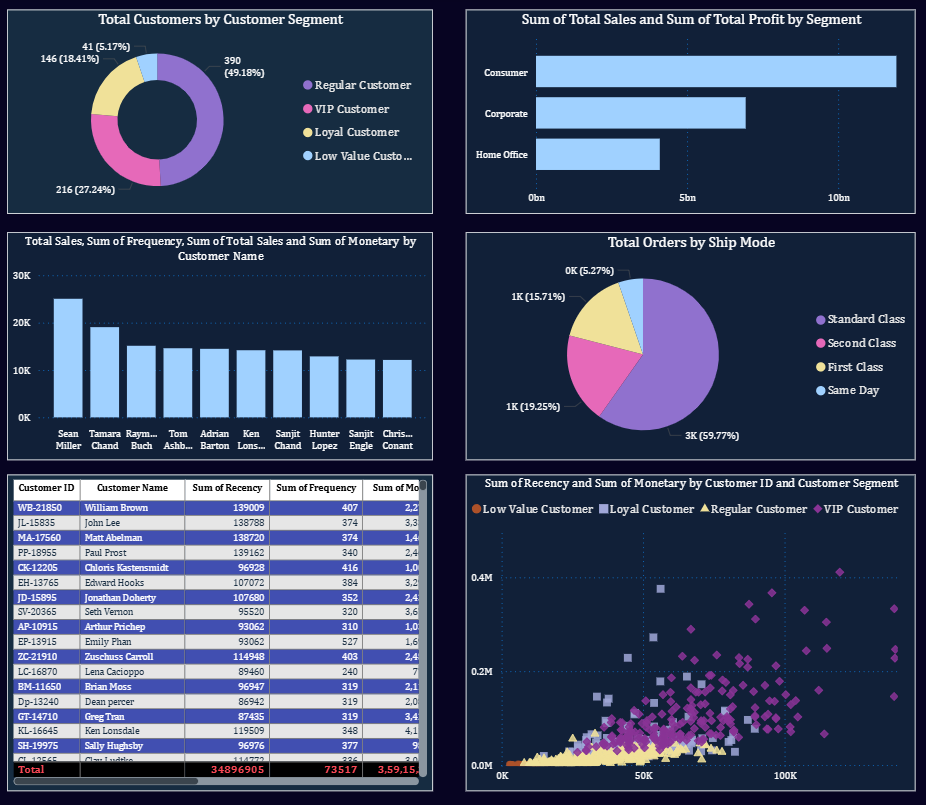

The dashboard page shown, as its layout file describes it:
{"tool":"powerbi","page":{"name":"Page 2","canvas":[1000,870],"ordinal":1},"visuals":[{"type":"donutChart","fields":{"Category":["Superstore.Customer Segment"],"Y":["#Measures.Total Customers"]},"box":[10.2,14,458.2,219.8],"z":0},{"type":"columnChart","fields":{"Category":["Superstore.Customer Name"],"Y":["#Measures.Total Sales"]},"box":[10.2,253.3,458.2,245.9],"z":1000},{"type":"clusteredBarChart","fields":{"Category":["Superstore.Segment"],"Y":["Superstore.Total Sales"]},"box":[504.7,14,484.3,219.8],"z":2000},{"type":"pieChart","fields":{"Category":["Superstore.Ship Mode"],"Y":["#Measures.Total Orders"]},"box":[504.7,253.3,484.3,245.9],"z":3000},{"type":"scatterChart","fields":{"X":["Superstore.Recency"],"Y":["Superstore.Monetary"],"Category":["Superstore.Customer ID"],"Series":["Superstore.Customer Segment"]},"box":[504.7,514.1,484.3,340.8],"z":4000},{"type":"tableEx","fields":{"Values":["Superstore.Customer ID","Superstore.Customer Name","Superstore.Recency","Superstore.Frequency","Superstore.Monetary","Superstore.RFM Score","Superstore.Customer Segment","Superstore.Total Sales","Superstore.Total Profit"]},"box":[10.2,514.1,458.2,340.8],"z":5000}]}

Visuals, with their boxes in screenshot pixels (x1, y1, x2, y2), scaled from the page's 1000x870 canvas onto the 926x805 screenshot:
donutChart - Superstore.Customer Segment x #Measures.Total Customers: x1=9, y1=13, x2=434, y2=216
columnChart - Superstore.Customer Name x #Measures.Total Sales: x1=9, y1=234, x2=434, y2=462
clusteredBarChart - Superstore.Segment x Superstore.Total Sales: x1=467, y1=13, x2=916, y2=216
pieChart - Superstore.Ship Mode x #Measures.Total Orders: x1=467, y1=234, x2=916, y2=462
scatterChart - Superstore.Recency x Superstore.Monetary: x1=467, y1=476, x2=916, y2=791
tableEx - Superstore.Customer ID x Superstore.Customer Name: x1=9, y1=476, x2=434, y2=791
